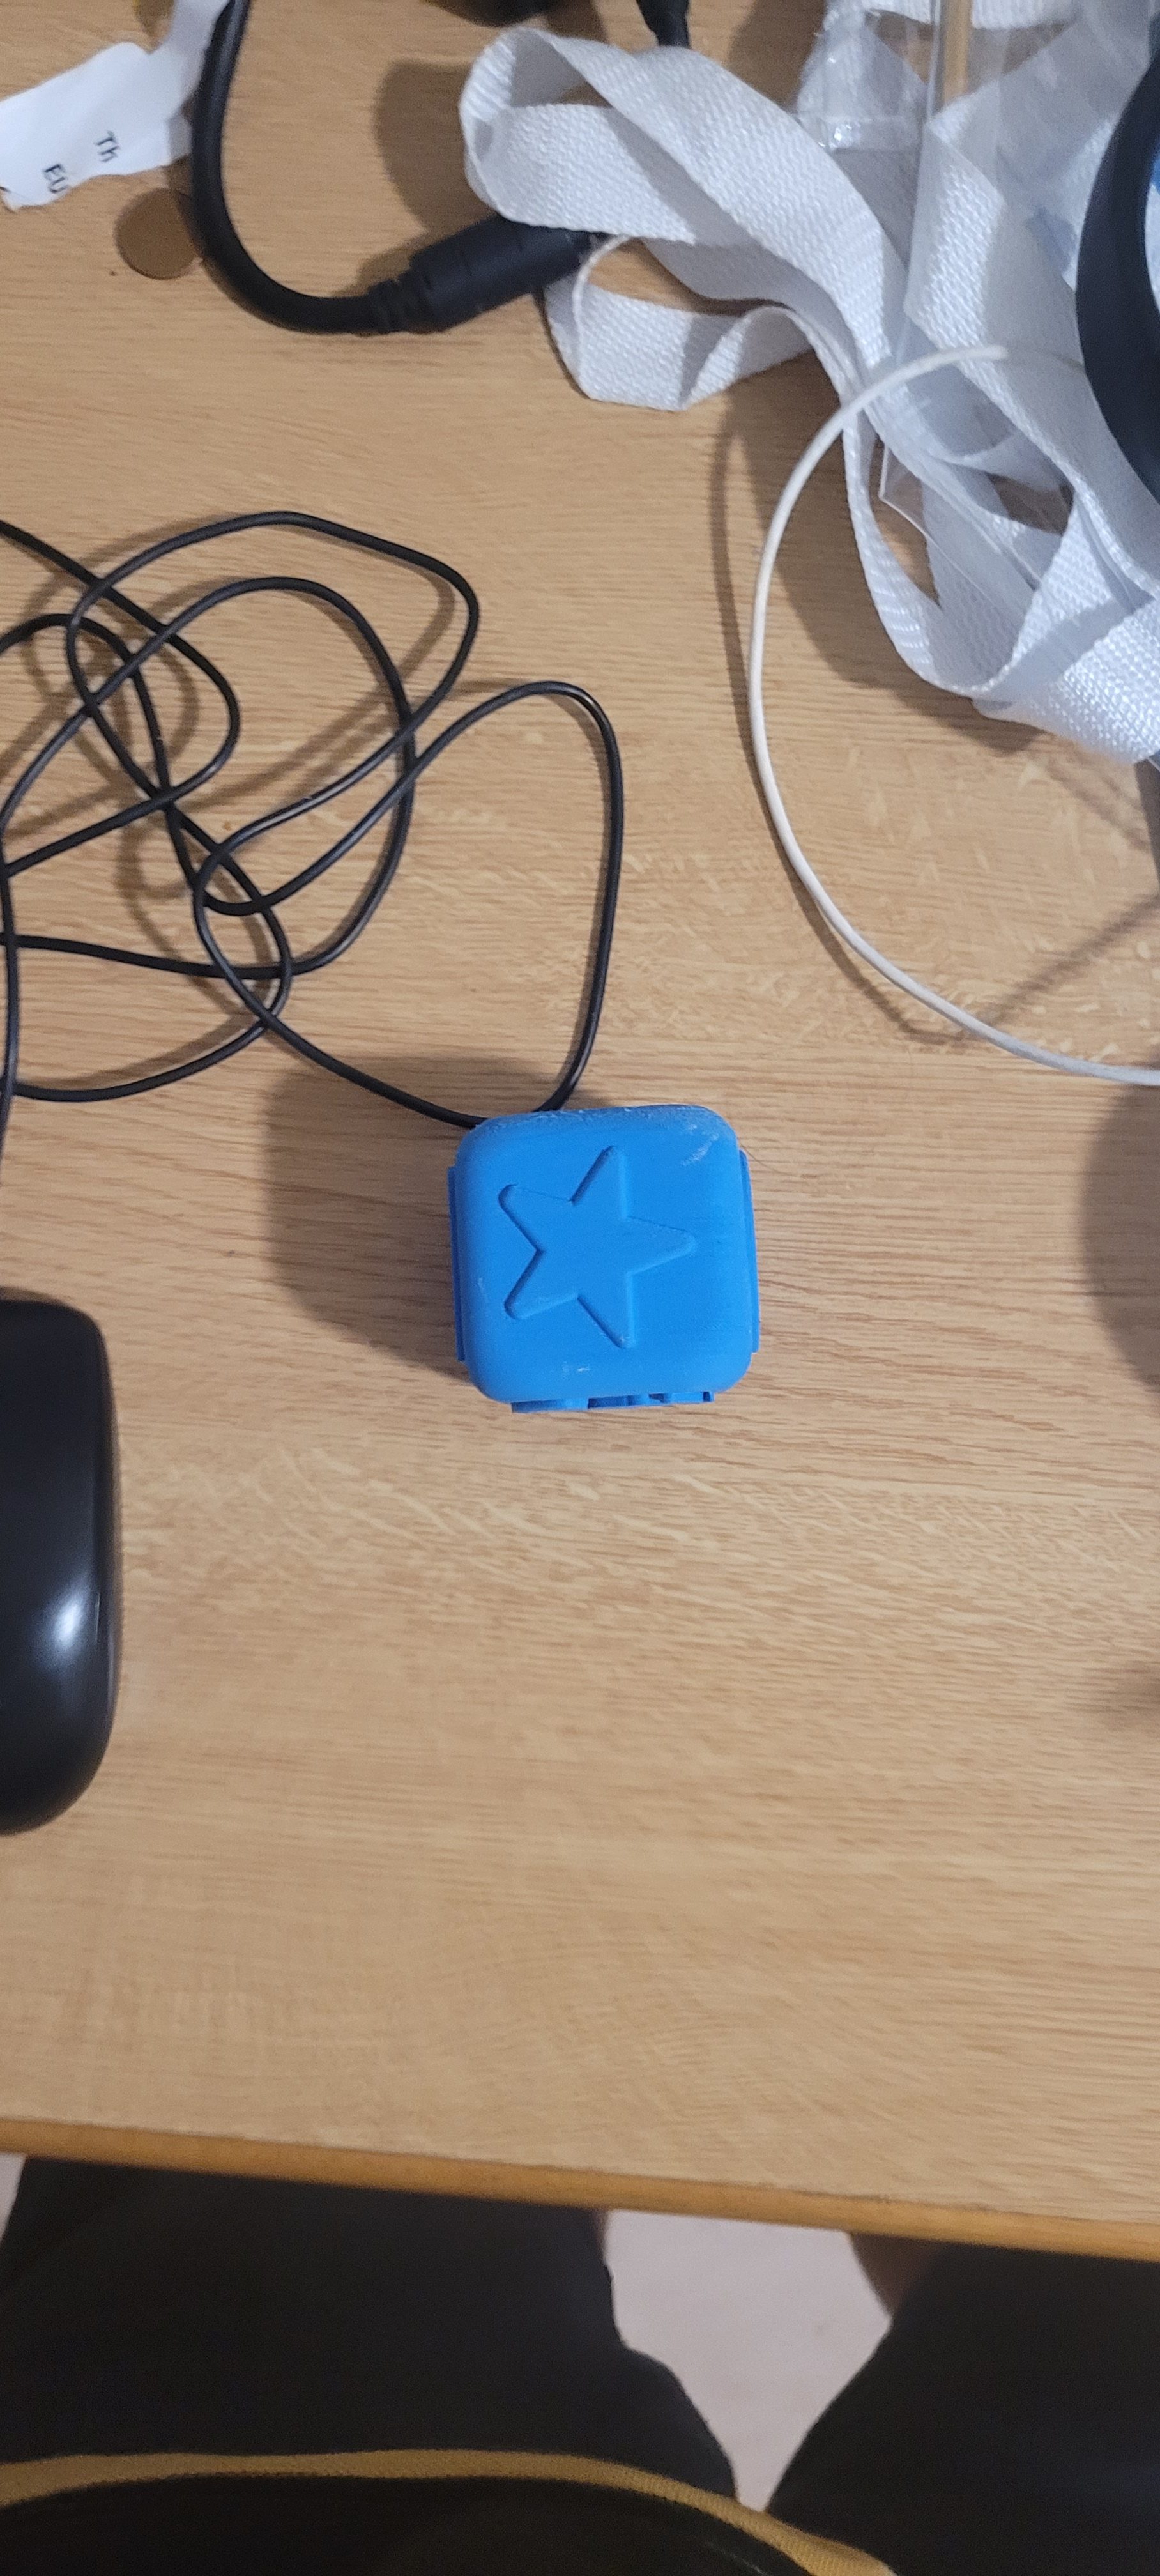Star: (444, 1142, 777, 1403)
